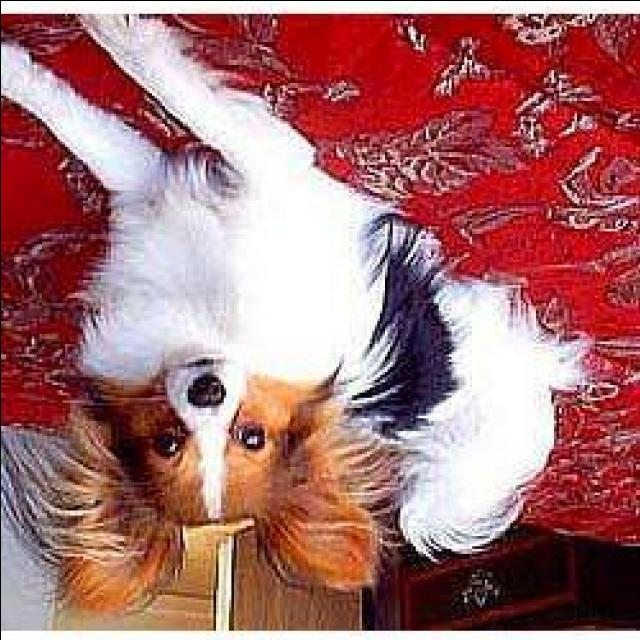papillon: (2, 13, 588, 619)
